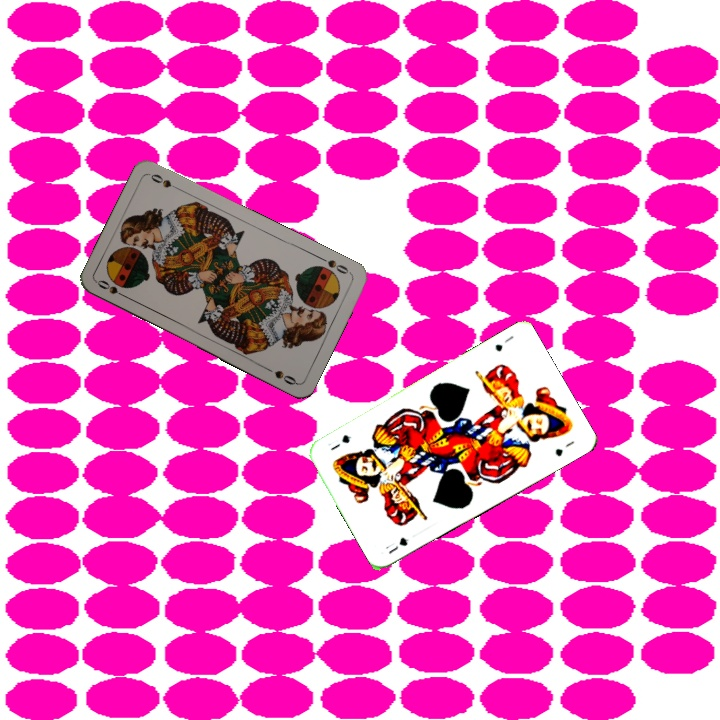GU: (381, 533, 411, 557), (491, 331, 516, 354)
SO: (93, 276, 131, 301), (316, 253, 354, 277)
